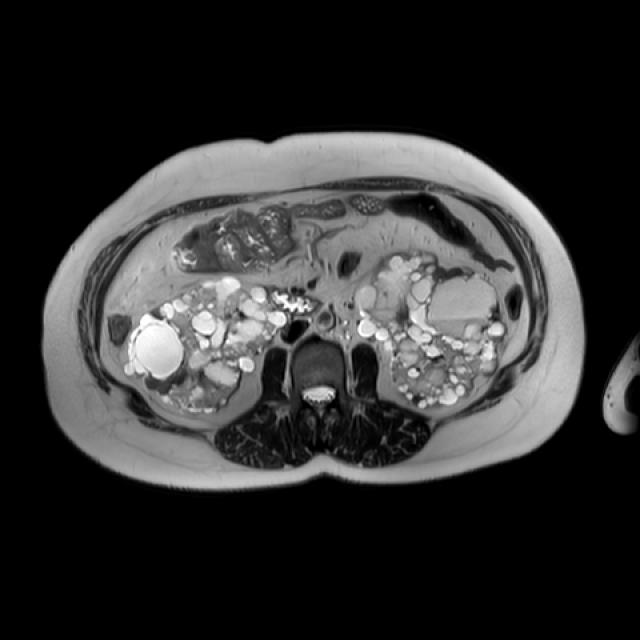sag: (125, 277, 288, 416)
sol: (356, 246, 506, 409)
